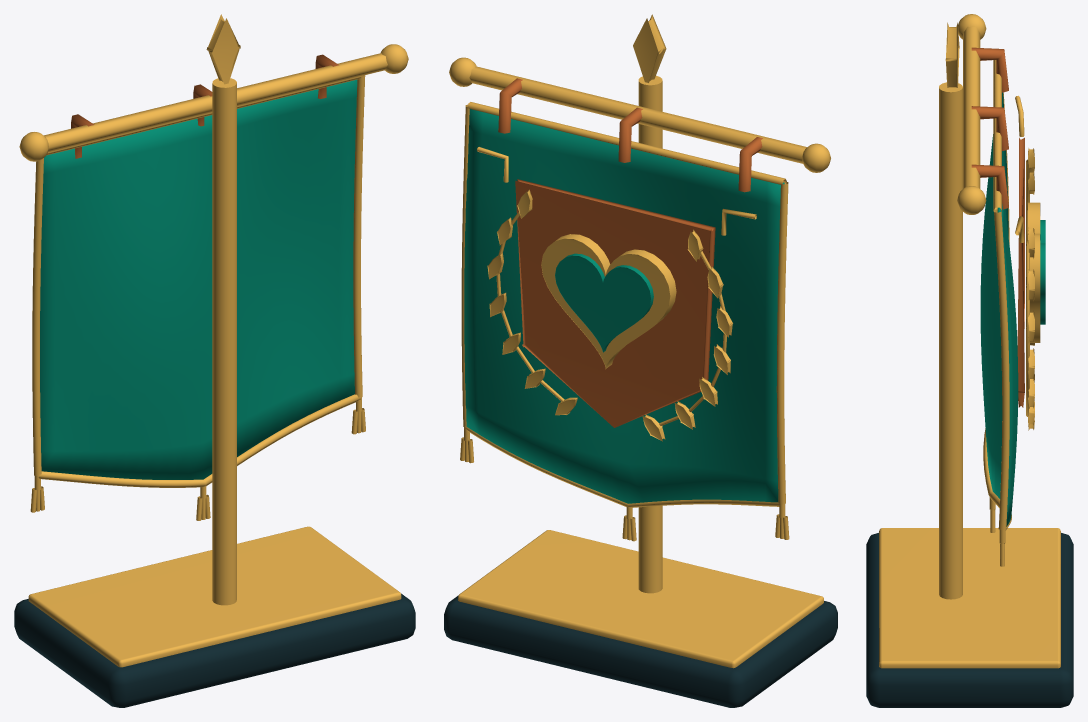
File: chess.banner.house-pink-bishop.glb
3 views of the same model, side by side, from view 1: azimuth 30°, elevation 25°; view 2: azimuth 150°, elevation 25°; view 3: azimuth 270°, elevation 25° (orthographic). The views are drawn at different scales.
Parts seen in each view (by area): view 1: woven_banner, banner_foot_rim, banner_foot, banner_pole, banner_crossbar, braided_banner_edge.002, braided_banner_edge.003, braided_banner_edge.001, spear_finial, braided_banner_edge, crossbar_end.001; view 2: woven_banner, embroidered_shield, banner_foot_rim, banner_foot, banner_crest_inset, banner_crossbar, banner_raised_crest, banner_pole, braided_banner_edge.003, braided_banner_edge, braided_banner_edge.001, spear_finial (+5 smaller); view 3: banner_foot_rim, banner_pole, banner_foot, woven_banner, banner_crossbar, braided_banner_edge.002, embroidered_shield, banner_raised_crest, braided_banner_edge, spear_finial, crossbar_end, cloth_hanger.001 (+6 smaller).
Part boxes in pixels (x1=…): woven_banner: x1=40, y1=79, x2=357, y2=479; banner_foot_rim: x1=28, y1=526, x2=401, y2=667; banner_foot: x1=14, y1=593, x2=415, y2=707; banner_pole: x1=212, y1=78, x2=236, y2=605; banner_crossbar: x1=44, y1=53, x2=387, y2=152; braided_banner_edge.002: x1=353, y1=75, x2=365, y2=397; braided_banner_edge.003: x1=32, y1=158, x2=43, y2=476; braided_banner_edge.001: x1=38, y1=394, x2=360, y2=487; spear_finial: x1=206, y1=14, x2=240, y2=84; braided_banner_edge: x1=46, y1=75, x2=363, y2=155; crossbar_end.001: x1=19, y1=132, x2=48, y2=161; woven_banner: x1=464, y1=109, x2=784, y2=503; embroidered_shield: x1=515, y1=179, x2=715, y2=427; banner_foot_rim: x1=458, y1=530, x2=823, y2=668; banner_foot: x1=444, y1=595, x2=837, y2=707; banner_crest_inset: x1=555, y1=253, x2=653, y2=352; banner_crossbar: x1=469, y1=66, x2=807, y2=163; banner_raised_crest: x1=541, y1=234, x2=676, y2=369; banner_pole: x1=638, y1=75, x2=662, y2=593; braided_banner_edge.003: x1=776, y1=181, x2=788, y2=504; braided_banner_edge: x1=467, y1=102, x2=786, y2=184; braided_banner_edge.001: x1=464, y1=426, x2=779, y2=507; spear_finial: x1=633, y1=14, x2=666, y2=82; banner_foot_rim: x1=879, y1=528, x2=1060, y2=668; banner_pole: x1=939, y1=82, x2=962, y2=599; banner_foot: x1=866, y1=533, x2=1073, y2=707; woven_banner: x1=980, y1=92, x2=1018, y2=526; banner_crossbar: x1=963, y1=26, x2=980, y2=188; braided_banner_edge.002: x1=994, y1=209, x2=1009, y2=530; embroidered_shield: x1=1017, y1=137, x2=1024, y2=407; banner_raised_crest: x1=1027, y1=202, x2=1040, y2=342; braided_banner_edge: x1=993, y1=60, x2=1001, y2=211; spear_finial: x1=945, y1=22, x2=959, y2=87; crossbar_end: x1=957, y1=186, x2=986, y2=214; cloth_hanger.001: x1=971, y1=106, x2=1008, y2=150.
Bounding box in the file's own units: 0.6462 × 1.01 × 0.3077.
